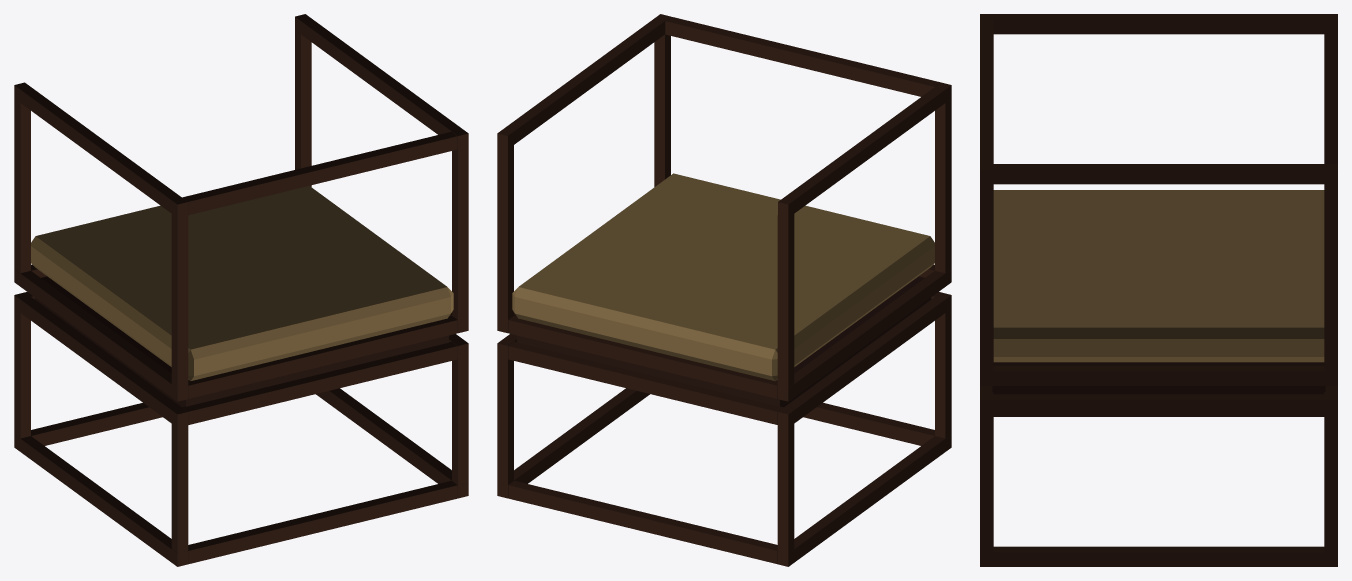
The model's file is Chair 9.fbx.
3 renders of one model, left to right at view 1: azimuth 30°, elevation 25°; view 2: azimuth 150°, elevation 25°; view 3: azimuth 270°, elevation 25°, orthographic. The views are drawn at different scales.
Visible parts, largest first — view 1: Node 0; view 2: Node 0; view 3: Node 0.
Part boxes in pixels (x1,y1,x2,y2): Node 0: (14, 14, 468, 566); Node 0: (497, 14, 951, 566); Node 0: (980, 14, 1337, 566).
Size of the model in its own units: 0.5898 by 0.7224 by 0.6075.
